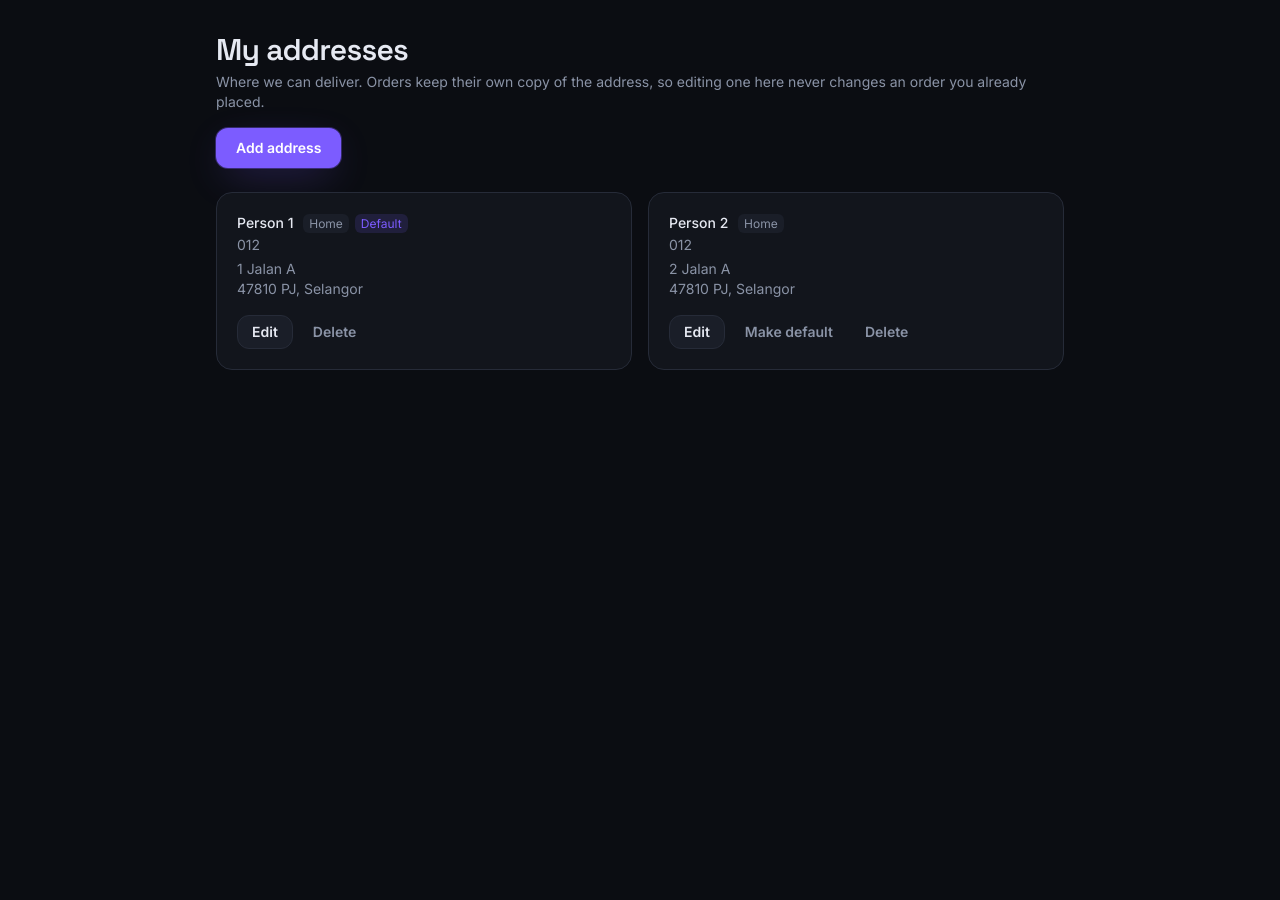
Addresses page › shows the server's validation errors when saving fails, and keeps the dialog open
The width and height of the screenshot is (1280, 900).
Click the button "Add address". click: point(279, 148)
box: [216,128,341,168]
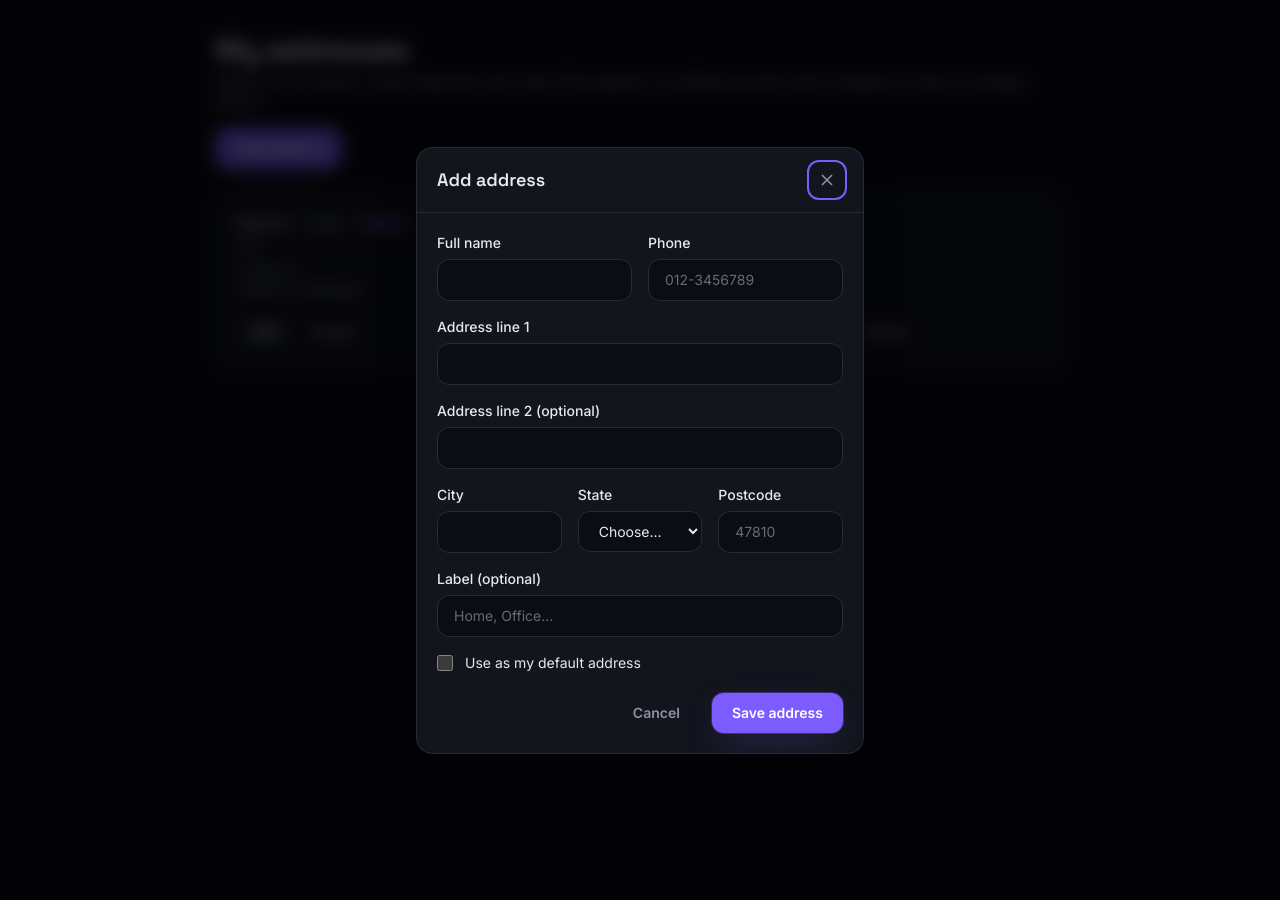
Submit the form, box [437,232,843,732]
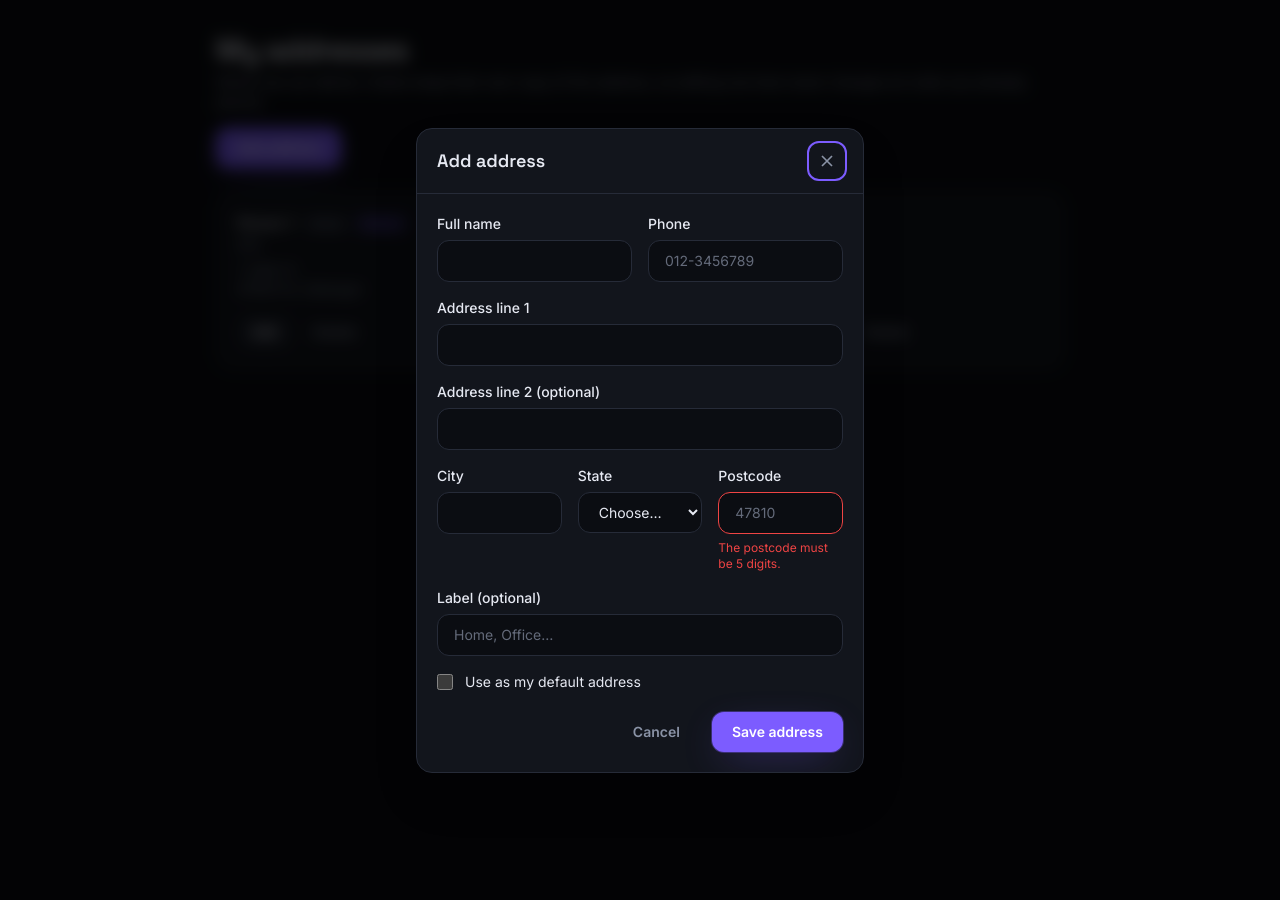
Now the dialog shows "The postcode must be 5 digits.", box [718,540,828,570]
